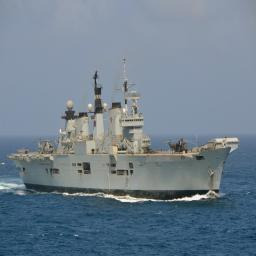Portanaves: (9, 56, 241, 200)
